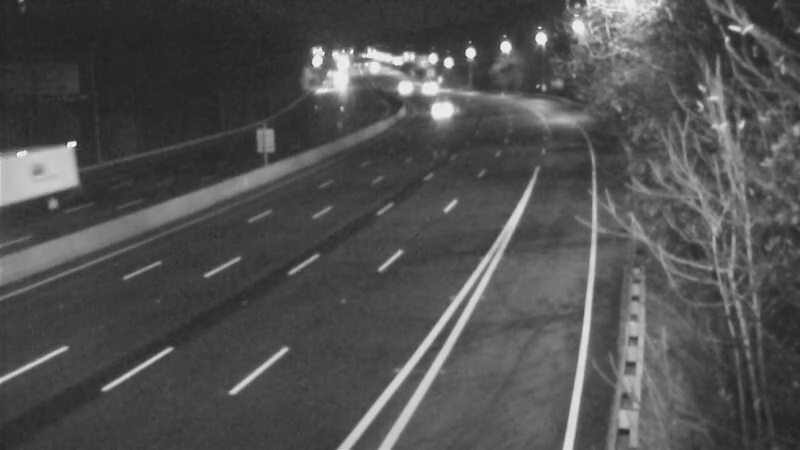vehicle: (1, 143, 80, 223), (374, 61, 424, 111), (404, 65, 454, 115), (425, 84, 475, 134)
